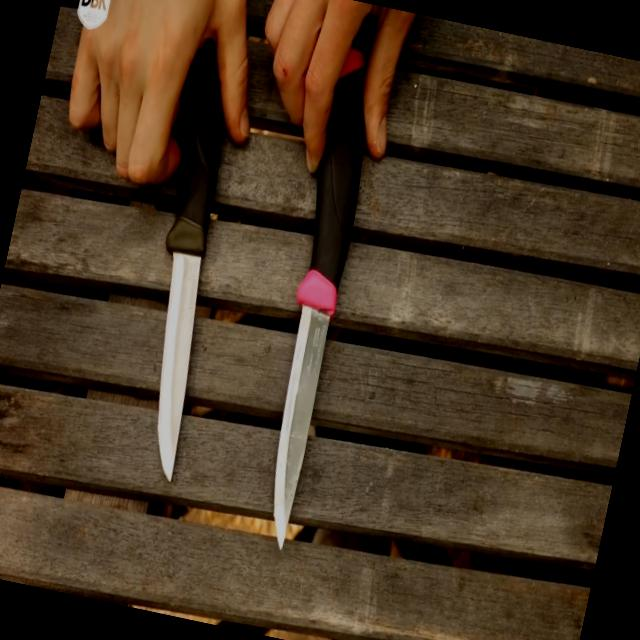knife: (212, 96, 396, 558), (68, 62, 262, 490)
